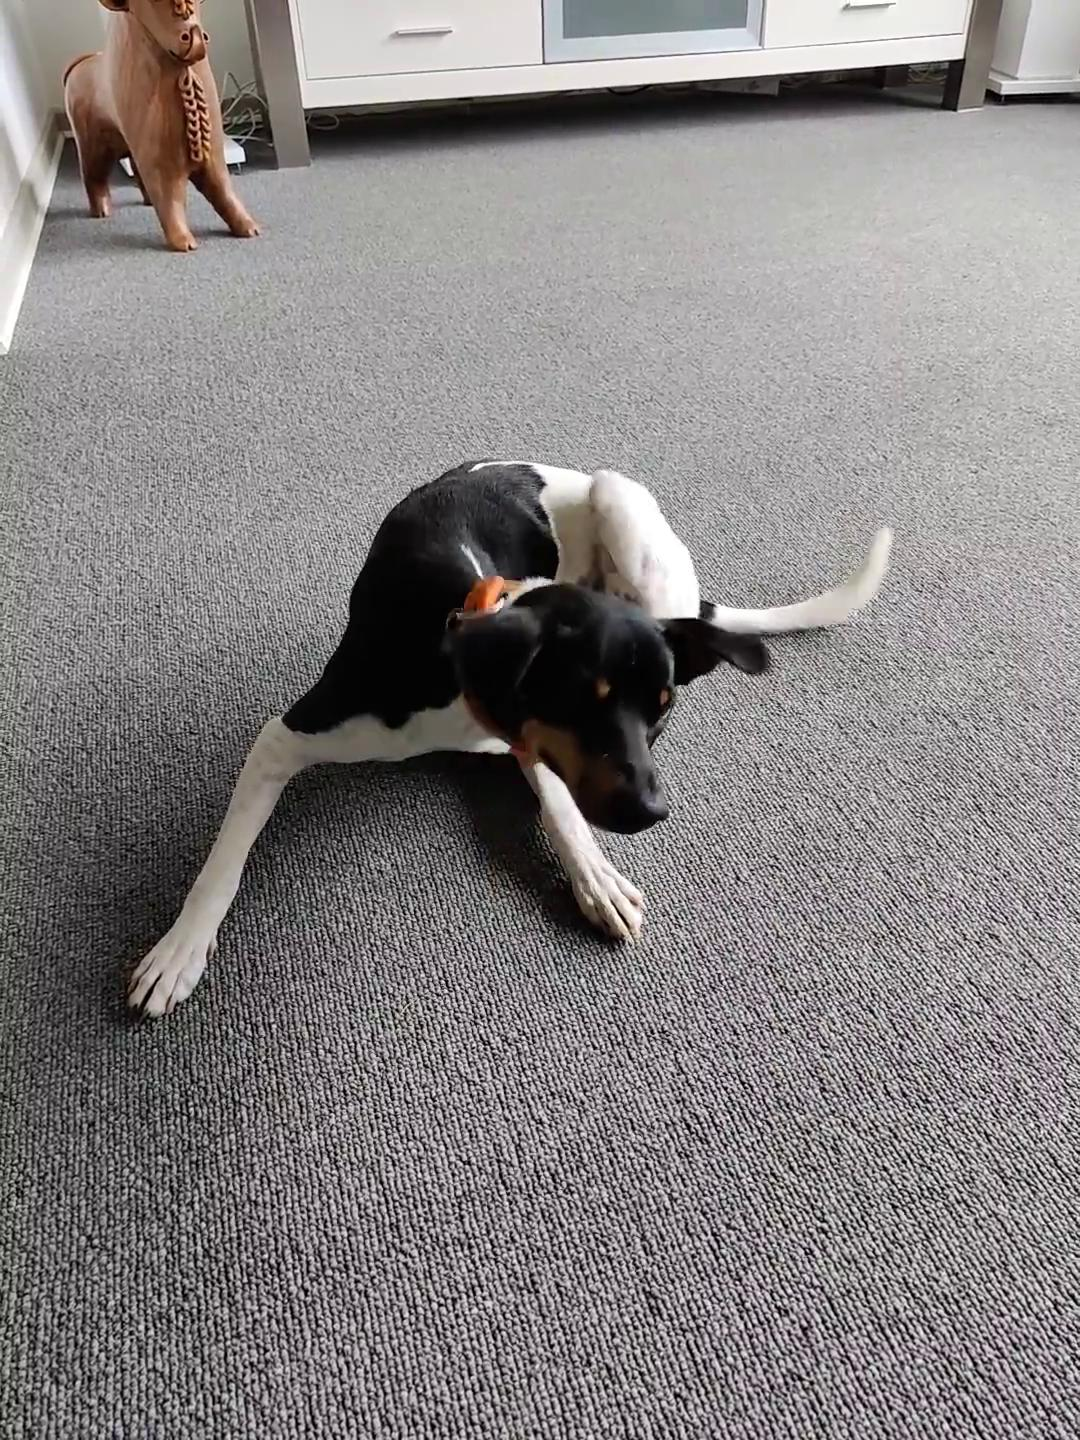Dog: (107, 456, 897, 1030)
